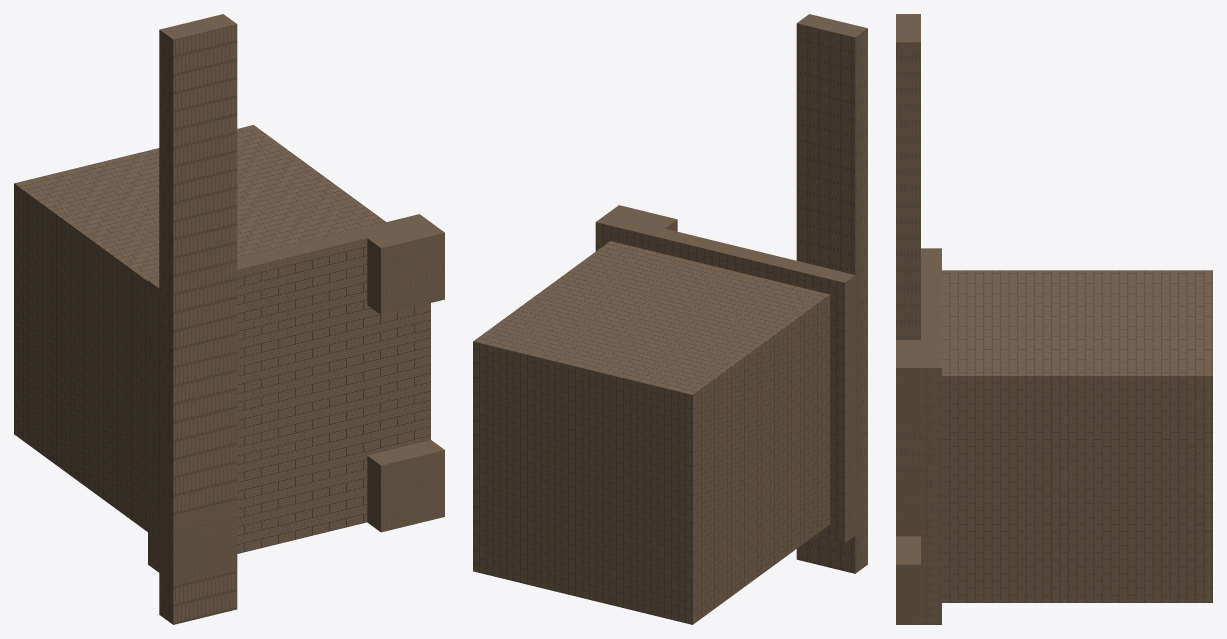
File: SM_Bastion_Tower.obj
The picture shows the model from 3 angles, left to right: view 1: azimuth 30°, elevation 25°; view 2: azimuth 150°, elevation 25°; view 3: azimuth 270°, elevation 25°; orthographic projection. The views are drawn at different scales.
Parts seen in each view (by area): view 1: SM_Bastion_Tower; view 2: SM_Bastion_Tower; view 3: SM_Bastion_Tower.
Boxes of the visible parts, x1,y1,x2,y2 form: SM_Bastion_Tower: (14, 14, 444, 624); SM_Bastion_Tower: (473, 14, 867, 624); SM_Bastion_Tower: (896, 14, 1212, 624).
Bounding box in the file's own units: 680 × 1400 × 760.
1 material, 1 textured.
